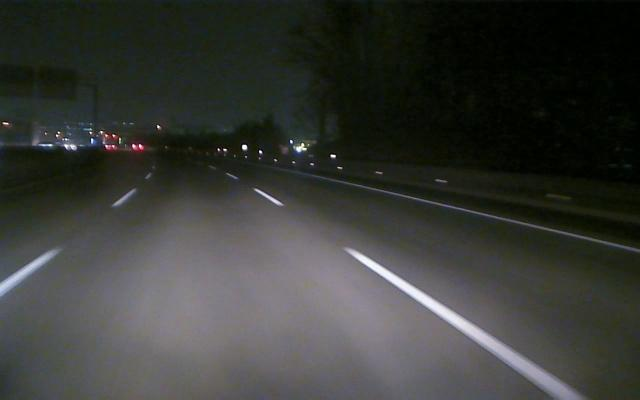lane: (259, 191, 591, 399), (359, 184, 640, 255), (1, 191, 135, 296)
